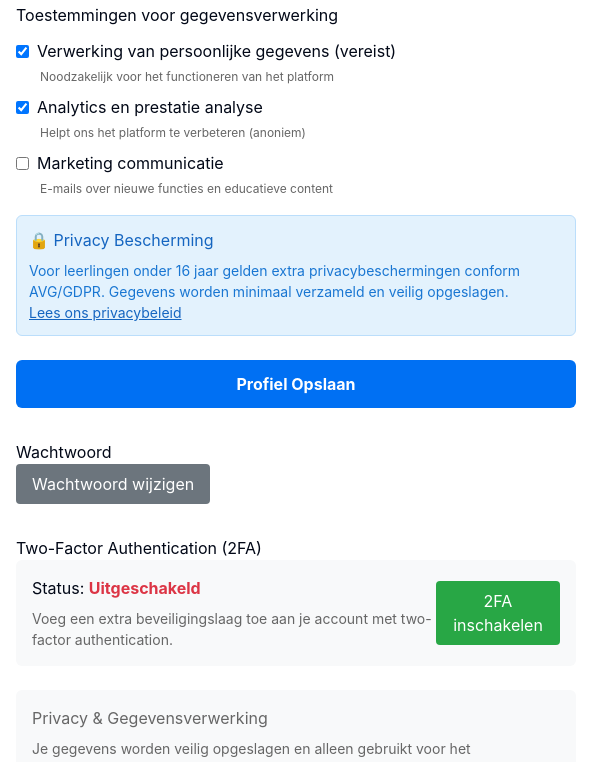
Test: UserProfile › toont succesbericht na succesvolle update
(page scrolled)
Click the button "Profiel Opslaan".
click(296, 384)  # box [16,360,576,408]
(page scrolled)
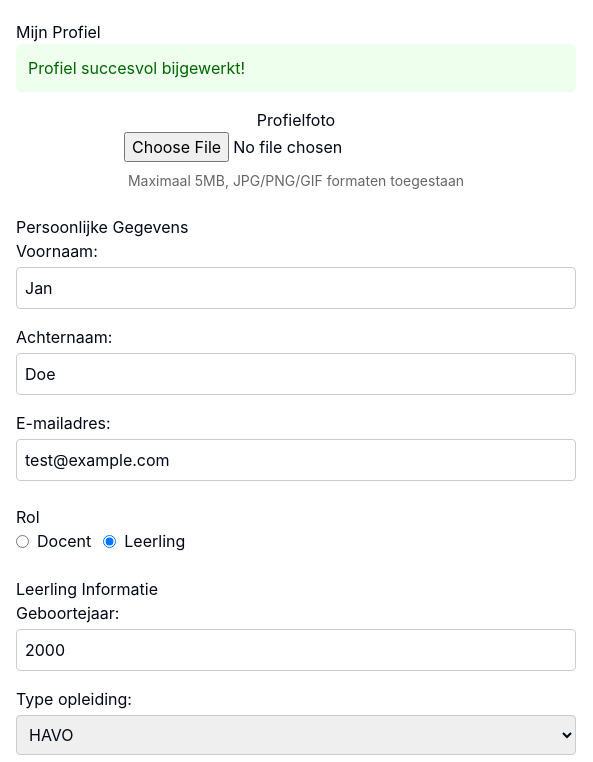
Check: the text "Profiel succesvol bijgewerkt!" is shown, box [16,44,576,92]
